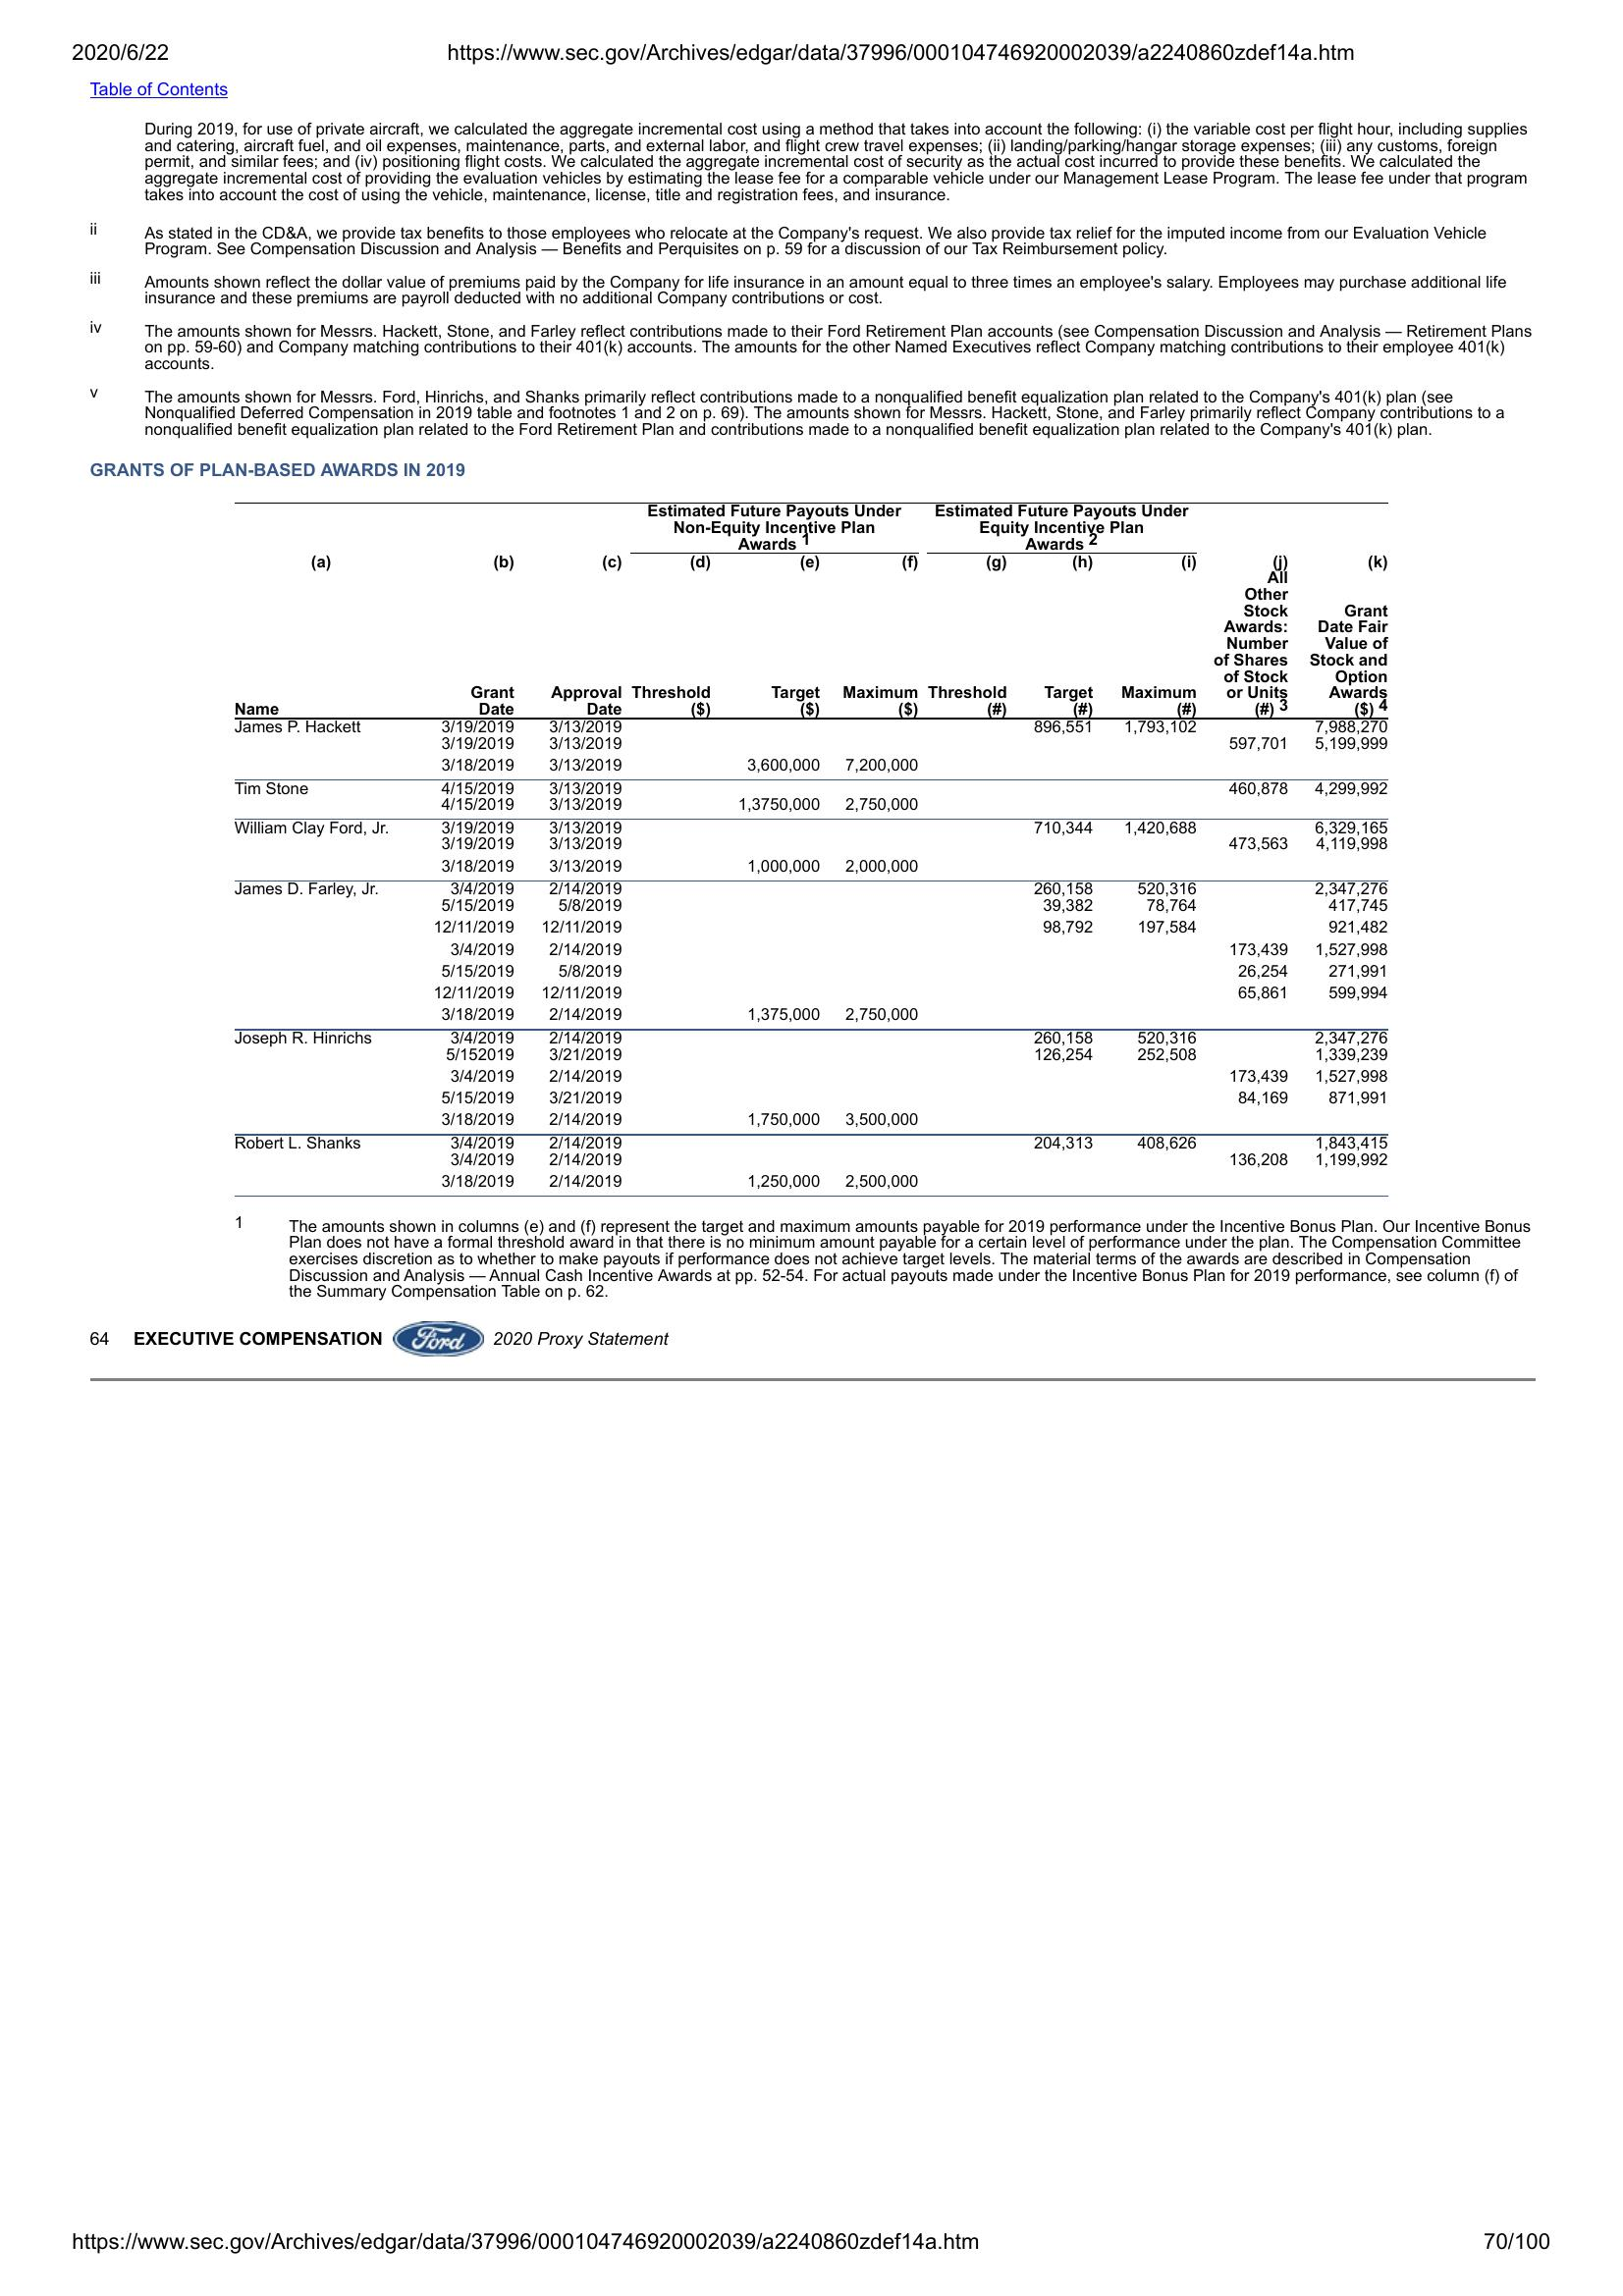table: (216, 491, 1393, 1192)
